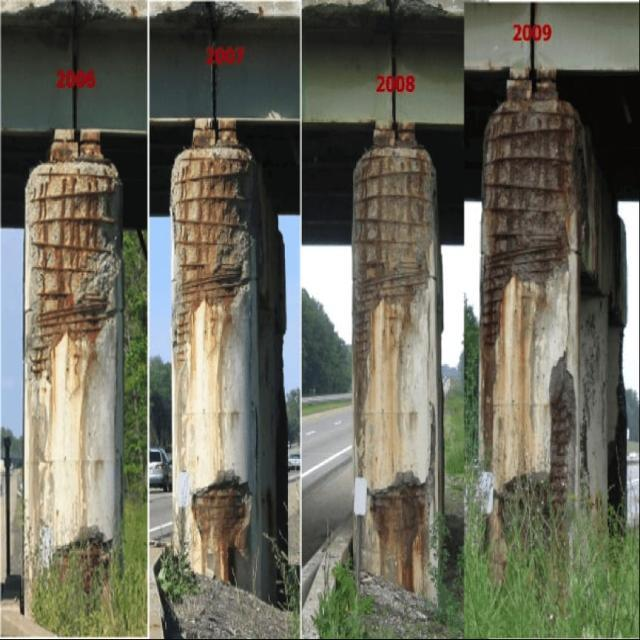spalling: (480, 67, 591, 466), (352, 122, 439, 476), (169, 117, 283, 376), (25, 128, 121, 387)
